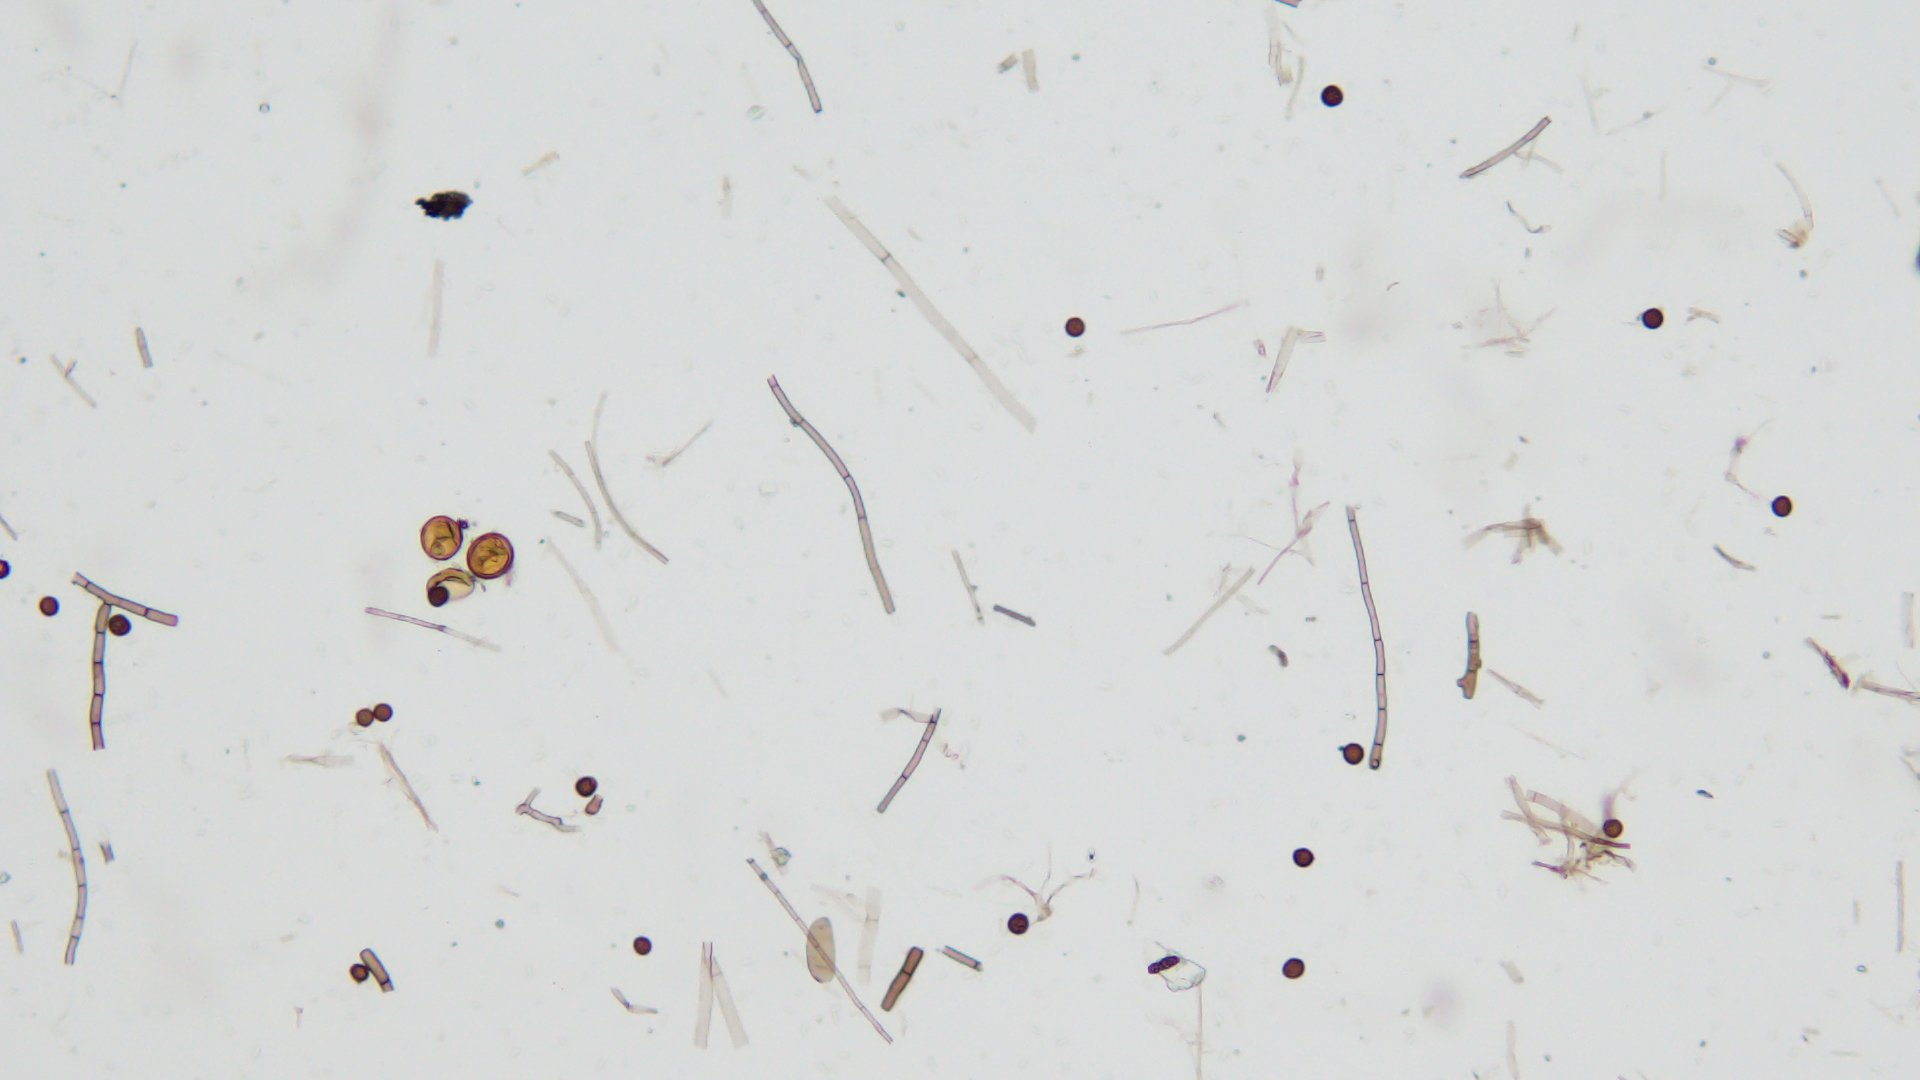shs_spore: (105, 612, 135, 638), (1319, 84, 1346, 107), (1640, 306, 1665, 330), (574, 774, 600, 796), (1342, 741, 1365, 765), (1770, 495, 1792, 518), (426, 585, 451, 607), (1006, 913, 1030, 934), (38, 596, 61, 616), (373, 702, 394, 721), (1067, 316, 1087, 338), (1292, 848, 1313, 866), (356, 707, 375, 727), (1604, 819, 1623, 837), (633, 938, 651, 956), (1282, 960, 1303, 976)
xb_spore: (465, 530, 516, 582), (417, 513, 464, 560)
